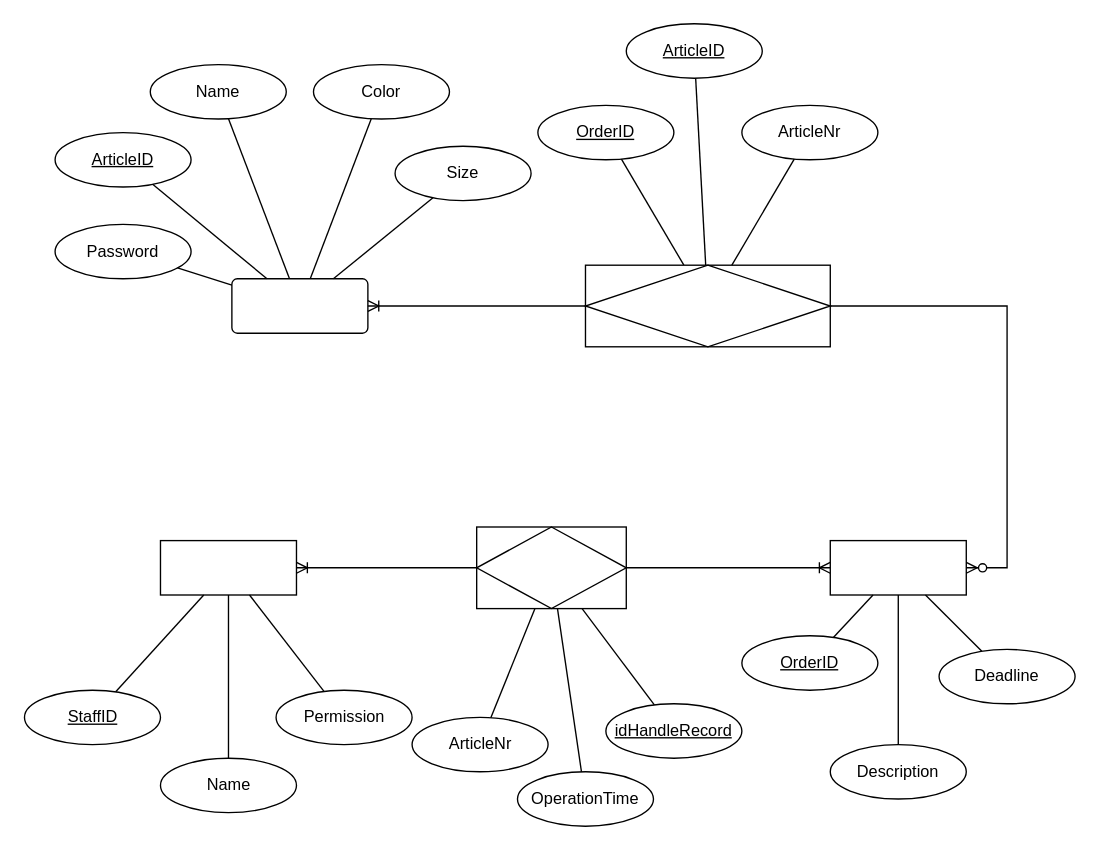
The diagram is 1099 pixels wide and 850 high, and some of its shapes have lost their labels. The shapes that lost their labels are listed below. From the top down, each one's centre as x and y in pixels, then its label:
(x=299, y=305): Articles
(x=707, y=305): OrdersArticleRelationship
(x=227, y=567): Staffs
(x=550, y=567): HandleRecords
(x=897, y=567): Orders
